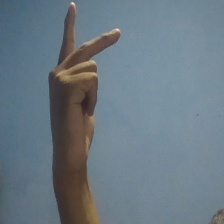K: (43, 1, 125, 168)
